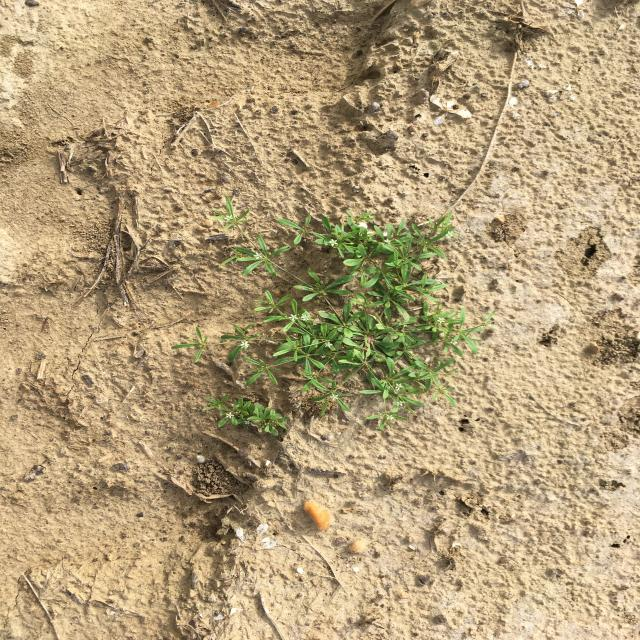Carpetweed: (171, 195, 499, 431), (202, 394, 290, 436)
